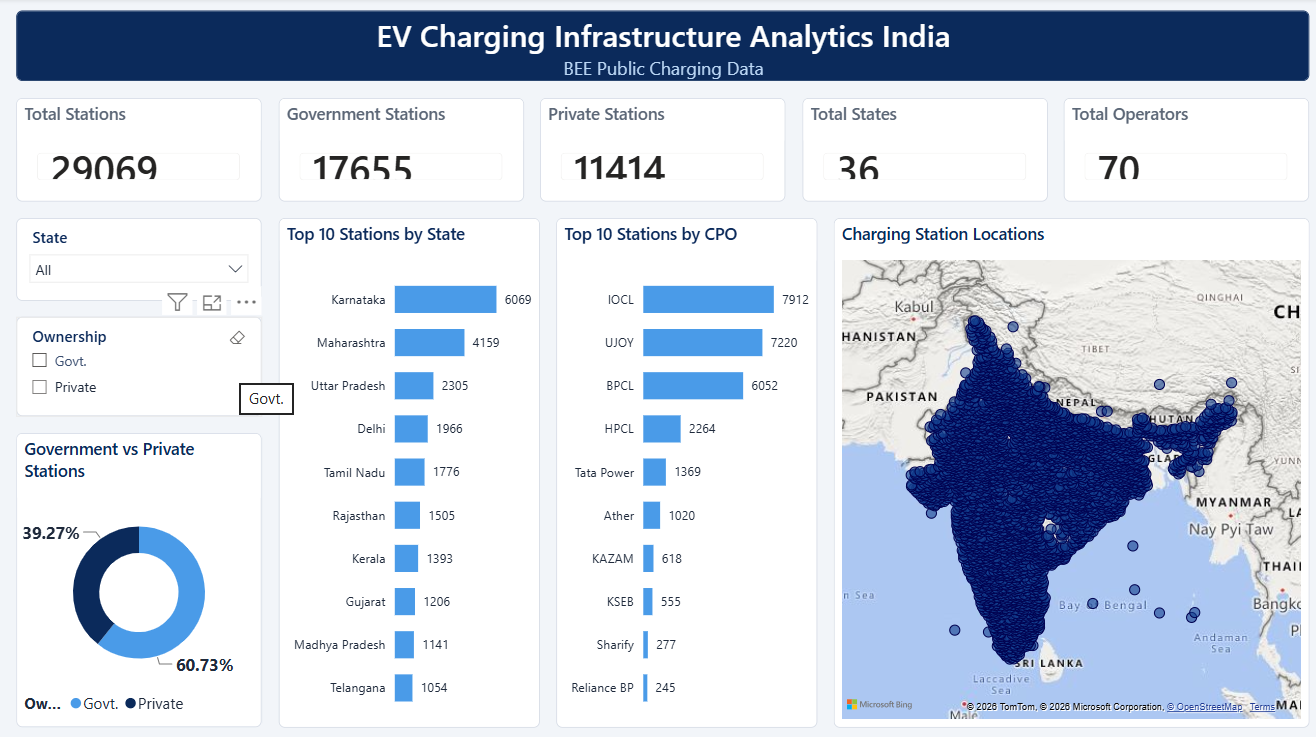

The dashboard page shown, as its layout file describes it:
{"tool":"powerbi","page":{"name":"Overview","canvas":[1280,720],"ordinal":0},"visuals":[{"type":"cardVisual","title":"Total Stations","fields":{"Data":["CountNonNull(bee_ev_stations.Station_ID)"]},"box":[16,96,236.8,100],"z":0},{"type":"cardVisual","title":"Government Stations","fields":{"Data":["Count(bee_ev_stations.Station_ID)"]},"box":[268.8,96,236.8,100],"z":1000},{"type":"cardVisual","title":"Private Stations","fields":{"Data":["Count(bee_ev_stations.Station_ID)"]},"box":[521.6,96,236.8,100],"z":2000},{"type":"cardVisual","title":"Total States","fields":{"Data":["Count(bee_ev_stations.State)"]},"box":[774.4,96,236.8,100],"z":3000},{"type":"cardVisual","title":"Total Operators","fields":{"Data":["Count(bee_ev_stations.CPO)"]},"box":[1027.2,96,236.8,100],"z":4000},{"type":"donutChart","title":"Government vs Private Stations","fields":{"Category":["bee_ev_stations.Ownership"],"Y":["bee_ev_stations.Total Stations"]},"box":[16,420,236.8,284],"z":5000},{"type":"clusteredBarChart","title":"Top 10 Stations by State","fields":{"Category":["bee_ev_stations.State"],"Y":["bee_ev_stations.Total Stations"]},"box":[268.8,212,252,492],"z":6000},{"type":"clusteredBarChart","title":"Top 10 Stations by CPO","fields":{"Category":["bee_ev_stations.CPO"],"Y":["bee_ev_stations.Total Stations"]},"box":[536.8,212,252,492],"z":7000},{"type":"textbox","title":"EV Charging Infrastructure Analytics India","box":[16,12,1248,68],"z":8000},{"type":"slicer","fields":{"Values":["bee_ev_stations.State"]},"box":[16,212,236.8,80],"z":9000},{"type":"slicer","fields":{"Values":["bee_ev_stations.Ownership"]},"box":[16,308,236.8,96],"z":10000},{"type":"map","title":"Charging Station Locations","fields":{"Y":["bee_ev_stations.Latitude"],"X":["bee_ev_stations.Longitude"]},"box":[804.8,212,459.2,492],"z":11000}]}

Visuals, with their boxes in screenshot pixels (x1, y1, x2, y2), scaled from the page's 1280x720 canvas onto the 1316x737 screenshot:
"Total Stations" cardVisual: crop(16, 98, 260, 201)
"Government Stations" cardVisual: crop(276, 98, 520, 201)
"Private Stations" cardVisual: crop(536, 98, 780, 201)
"Total States" cardVisual: crop(796, 98, 1040, 201)
"Total Operators" cardVisual: crop(1056, 98, 1300, 201)
"Government vs Private Stations" donutChart: crop(16, 430, 260, 721)
"Top 10 Stations by State" clusteredBarChart: crop(276, 217, 535, 721)
"Top 10 Stations by CPO" clusteredBarChart: crop(552, 217, 811, 721)
"EV Charging Infrastructure Analytics India" textbox: crop(16, 12, 1300, 82)
slicer - bee_ev_stations.State: crop(16, 217, 260, 299)
slicer - bee_ev_stations.Ownership: crop(16, 315, 260, 414)
"Charging Station Locations" map: crop(827, 217, 1300, 721)
